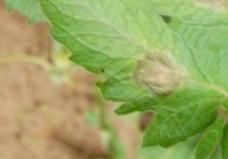Tomato leaf late blight: (9, 0, 228, 151)
